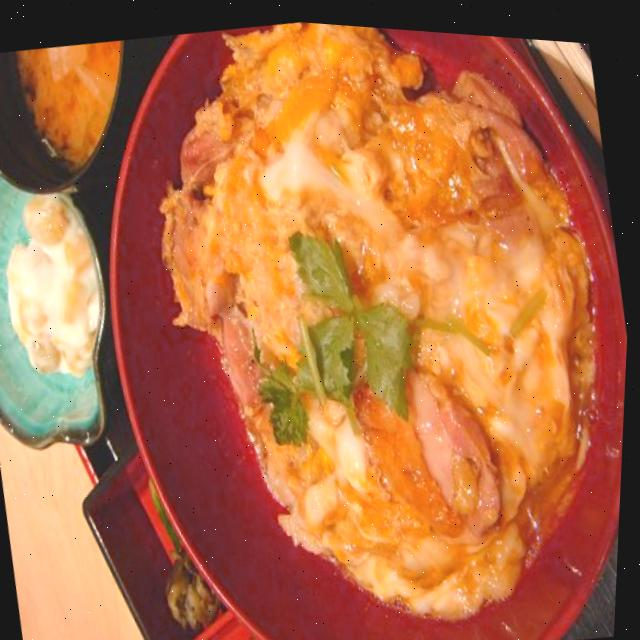米饭主食: (43, 4, 640, 640)
